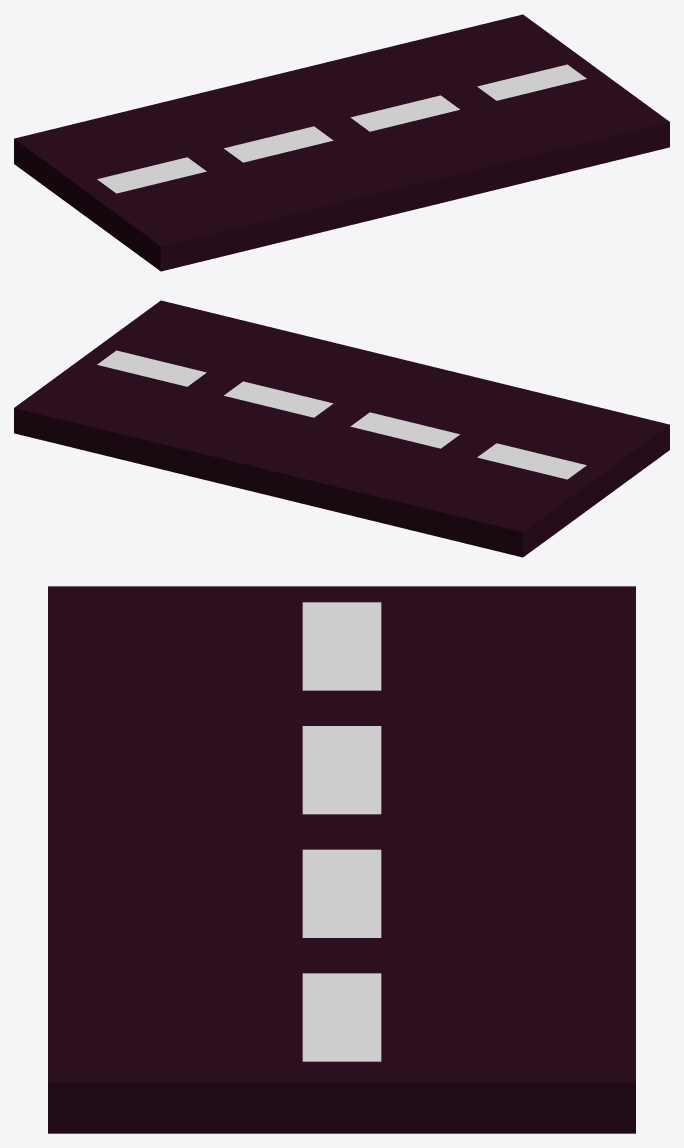
File: droga2.fbx
3 renders of one model, top to bottom at view 1: azimuth 30°, elevation 25°; view 2: azimuth 150°, elevation 25°; view 3: azimuth 270°, elevation 25°, orthographic. The views are drawn at different scales.
Parts seen in each view (by area): view 1: Droga.004; view 2: Droga.004; view 3: Droga.004.
Part boxes in pixels (bbox=[...]): Droga.004: bbox=[14, 14, 669, 271]; Droga.004: bbox=[14, 300, 669, 557]; Droga.004: bbox=[48, 586, 635, 1133].
Bounding box in the file's own units: 200 × 400 × 20.
